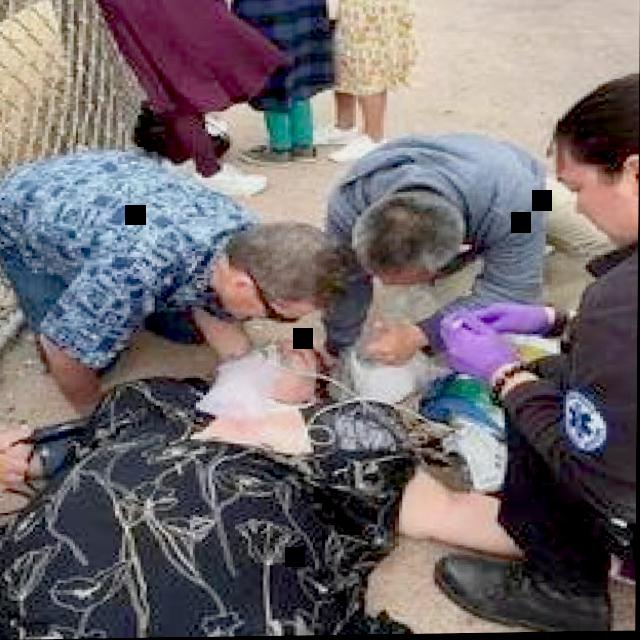Fall-Detected: (0, 309, 497, 640)
